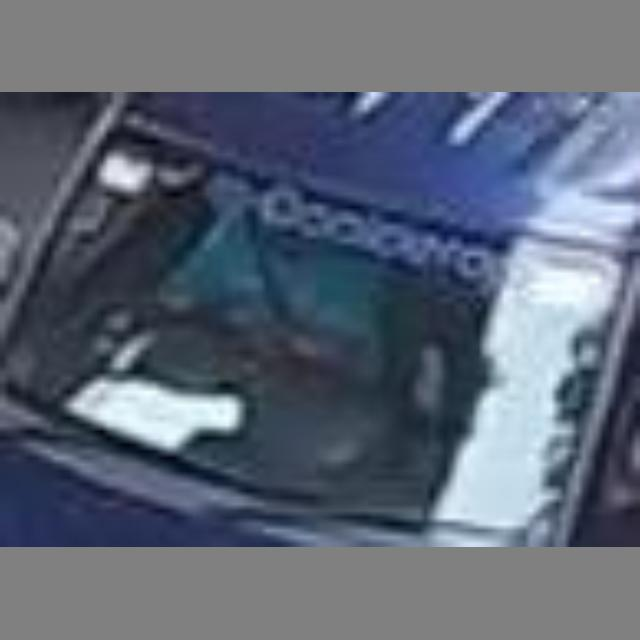pakai: (139, 204, 409, 448)
